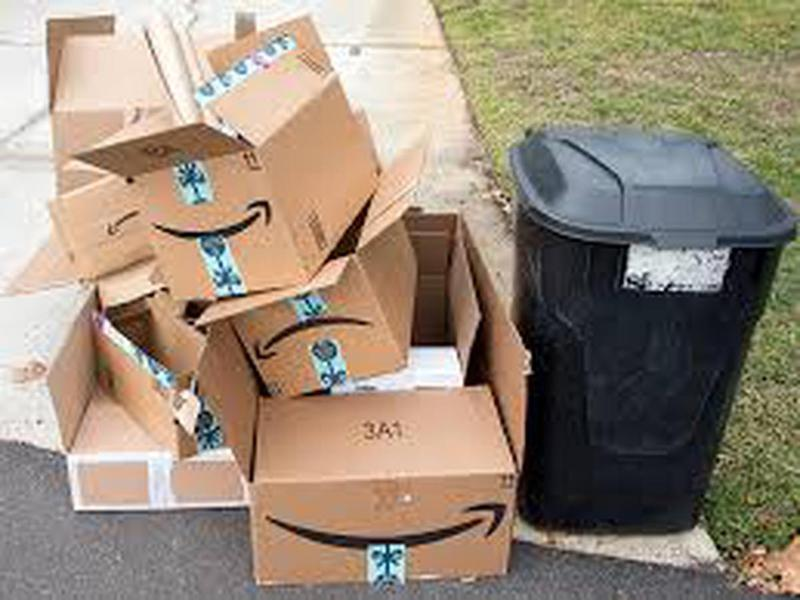cardboard: (63, 11, 385, 300), (245, 374, 528, 586), (48, 314, 246, 510), (196, 218, 424, 388)
